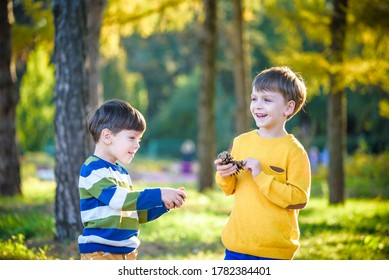Pc: (229, 160, 246, 176), (214, 151, 232, 165)
